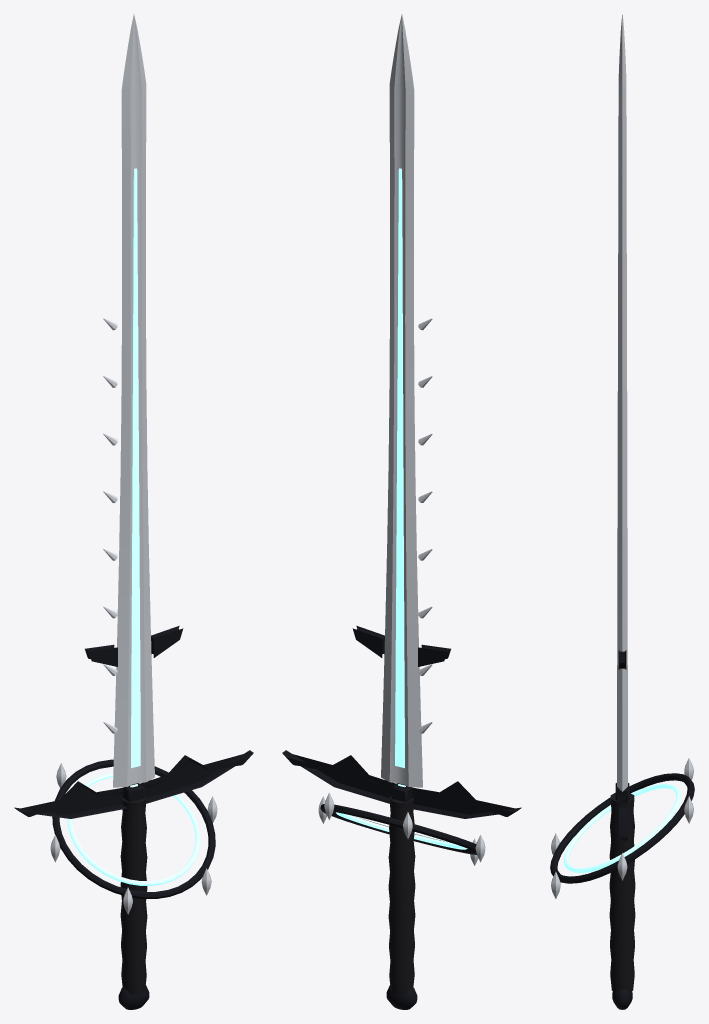
File: esc_w_knight_greatsword_8.glb
3 renders of one model, left to right at view 1: azimuth 30°, elevation 25°; view 2: azimuth 150°, elevation 25°; view 3: azimuth 270°, elevation 25°, orthographic.
Parts seen in each view (by area): view 1: esc_w_knight_greatsword_8; view 2: esc_w_knight_greatsword_8; view 3: esc_w_knight_greatsword_8.
Part boxes in pixels (x1,y1,x2,y2): esc_w_knight_greatsword_8: (14, 14, 253, 1009); esc_w_knight_greatsword_8: (282, 14, 521, 1009); esc_w_knight_greatsword_8: (550, 14, 694, 1009).
Size of the model in its own units: 0.4369 by 1.76 by 0.2324.
